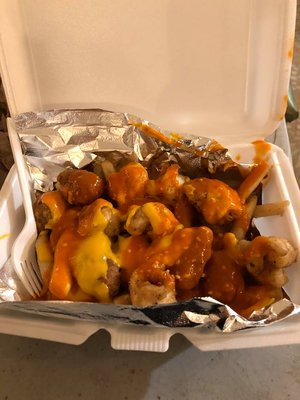sandwich: (0, 298, 300, 353)
